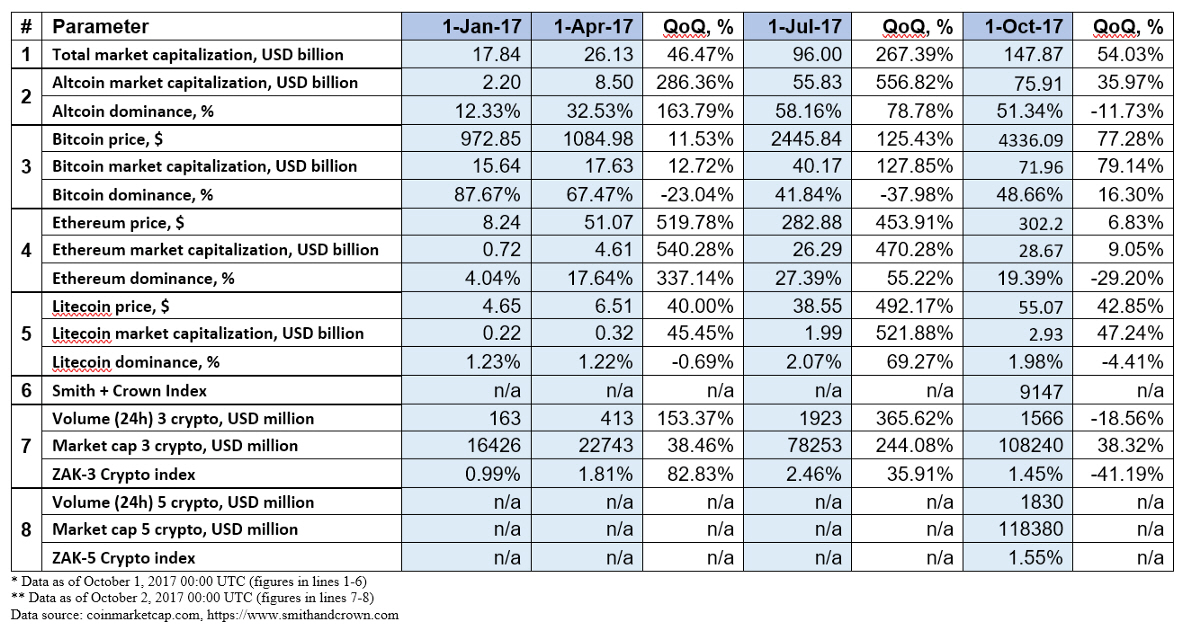table: (7, 7, 1180, 577)
